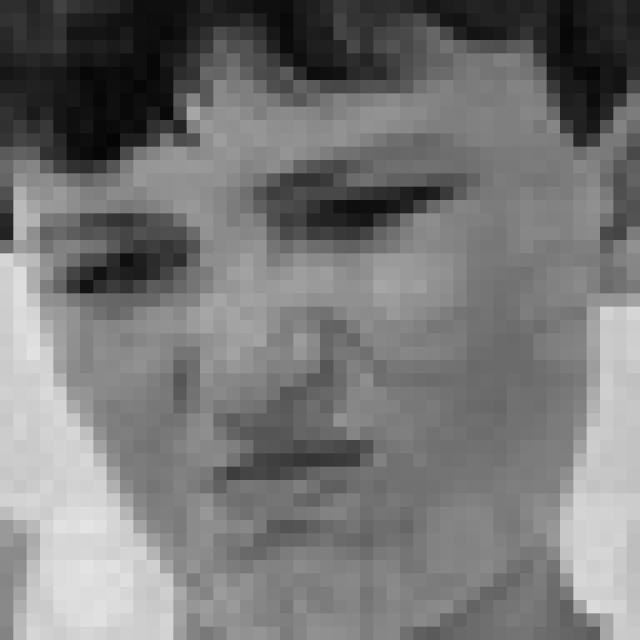disgust: (35, 128, 478, 560)
